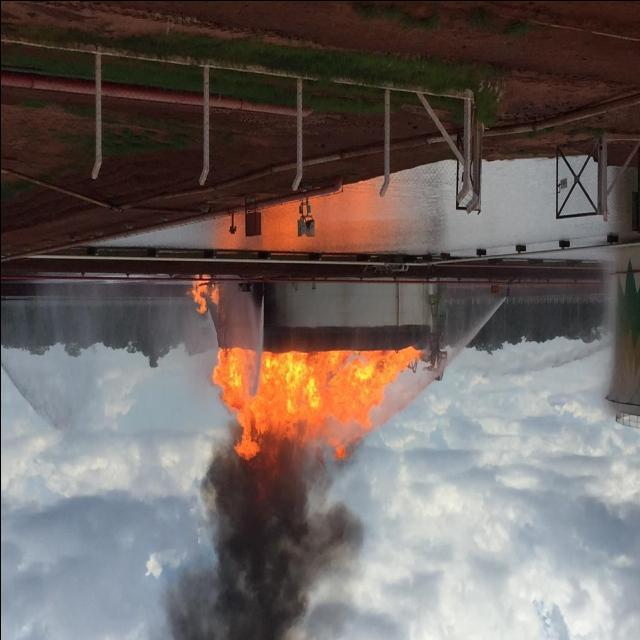Fire: (219, 348, 417, 453), (192, 279, 220, 309)
